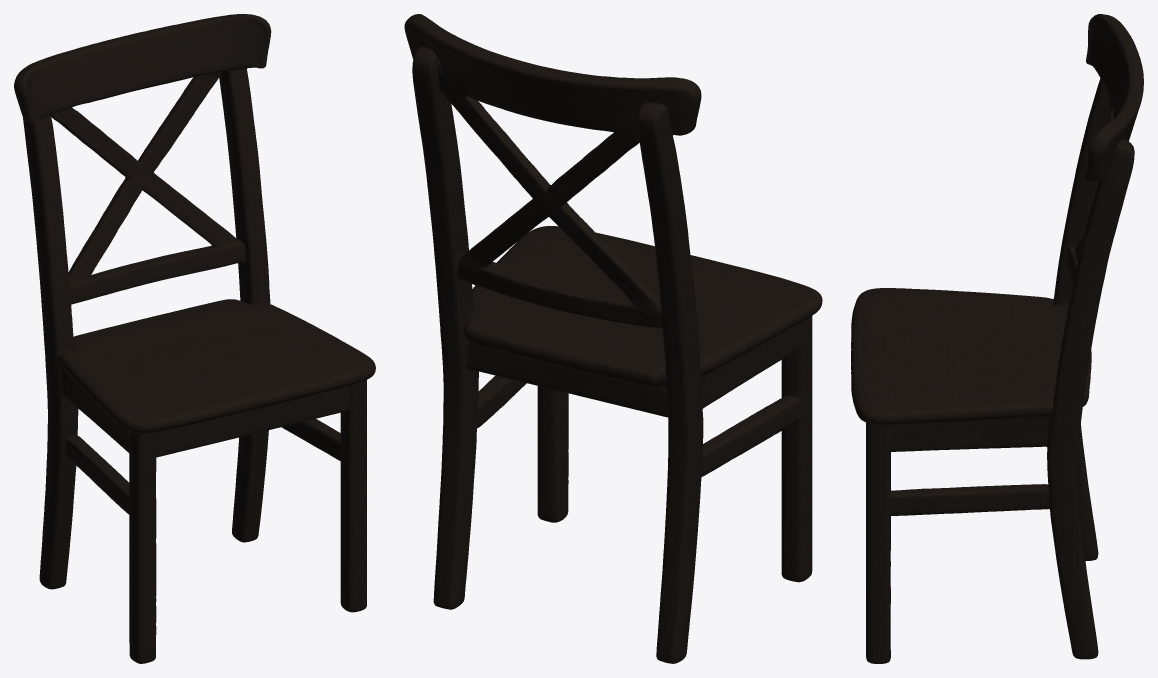
The model's file is item_67551c9e.glb.
3 renders of one model, left to right at view 1: azimuth 30°, elevation 25°; view 2: azimuth 150°, elevation 25°; view 3: azimuth 270°, elevation 25°, orthographic. The views are drawn at different scales.
Visible parts, largest first — view 1: world; view 2: world; view 3: world.
Part boxes in pixels (<box>): world: <box>14,14,375,663</box>; world: <box>404,14,822,663</box>; world: <box>851,14,1143,663</box>.
Bounding box in the file's own units: 0.4394 × 0.85 × 0.4216.
1 material, 1 textured.
